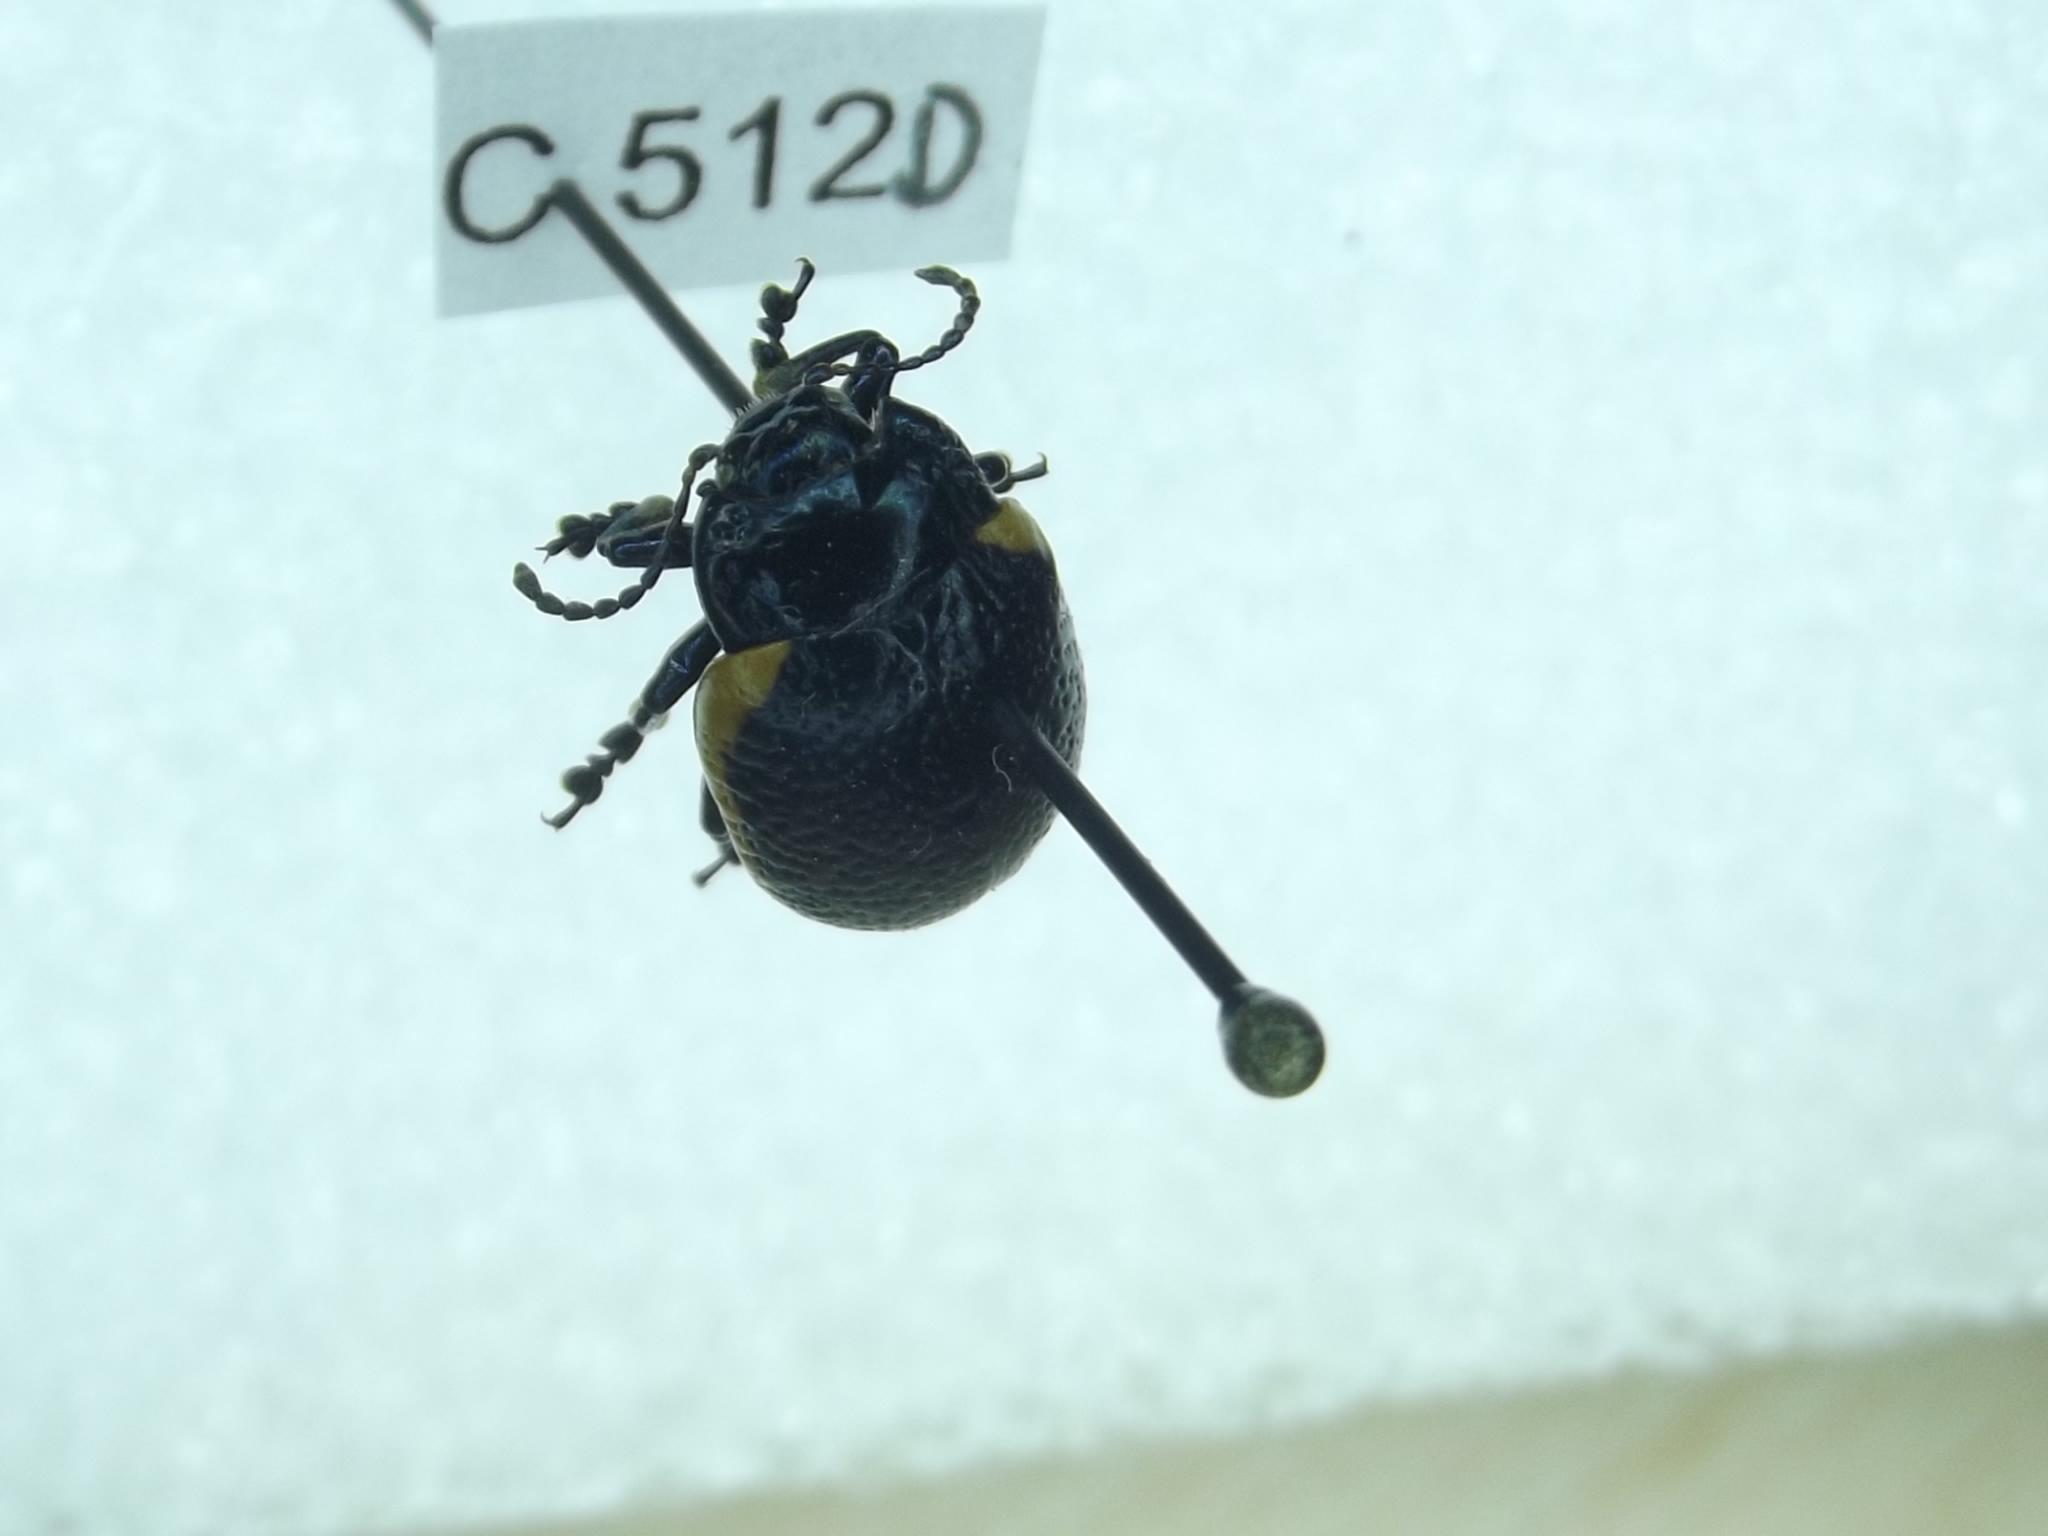Chrysolina_gypsophila: (497, 255, 1090, 942)
